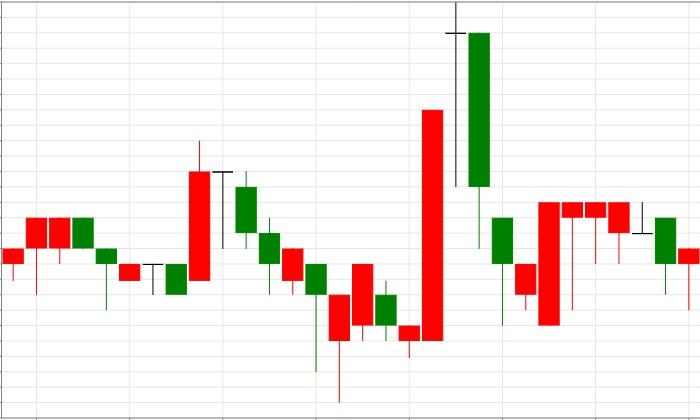hammer_rise: (212, 171, 350, 403)
